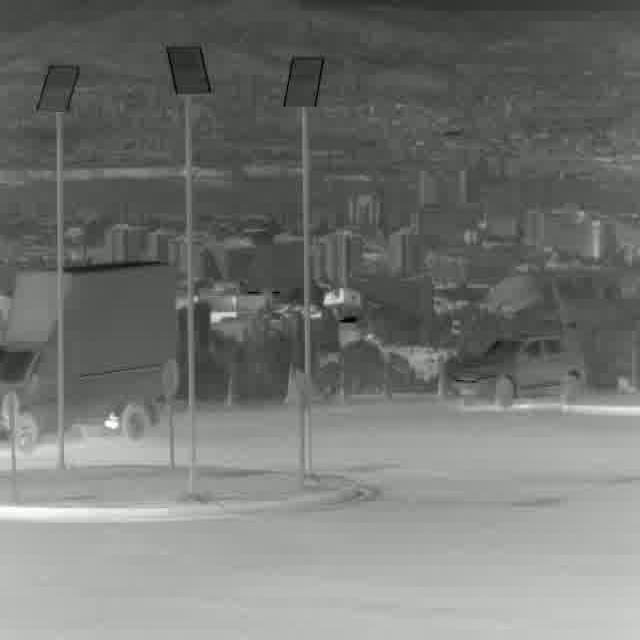Car: (0, 261, 171, 439), (446, 337, 584, 406)
